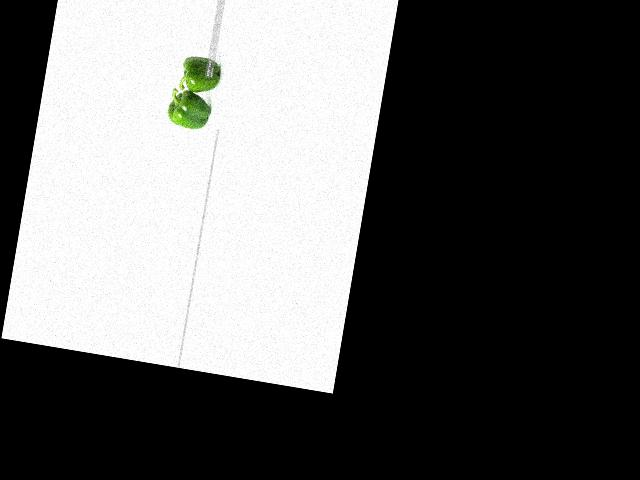bell_pepper: (162, 88, 219, 132)
